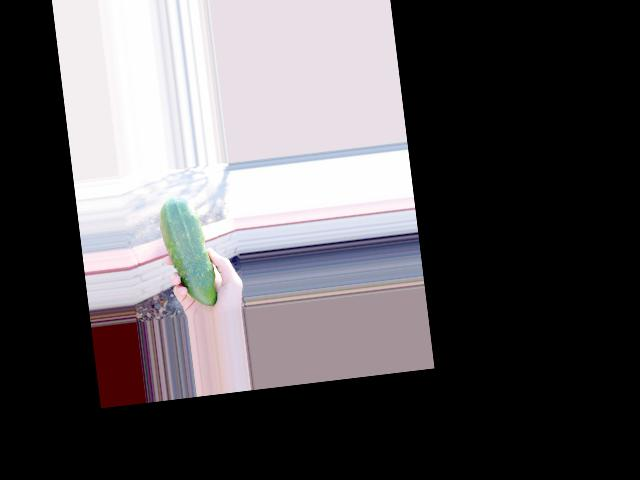cucumber: (156, 194, 218, 310)
